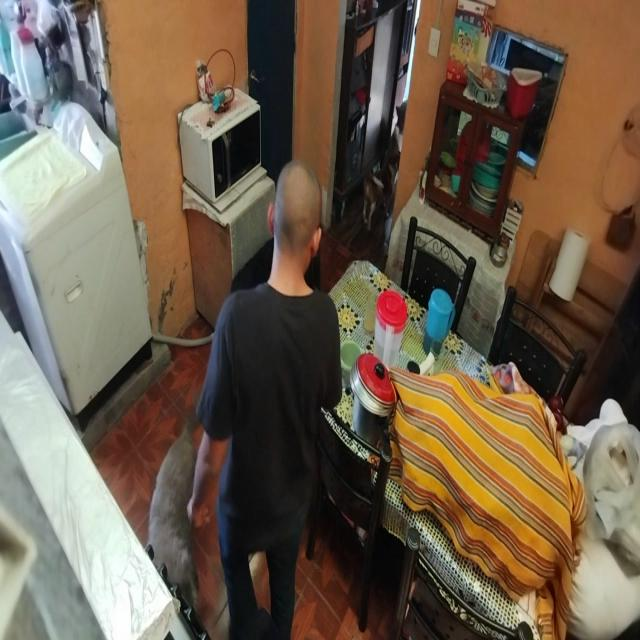adult: (186, 157, 338, 640)
